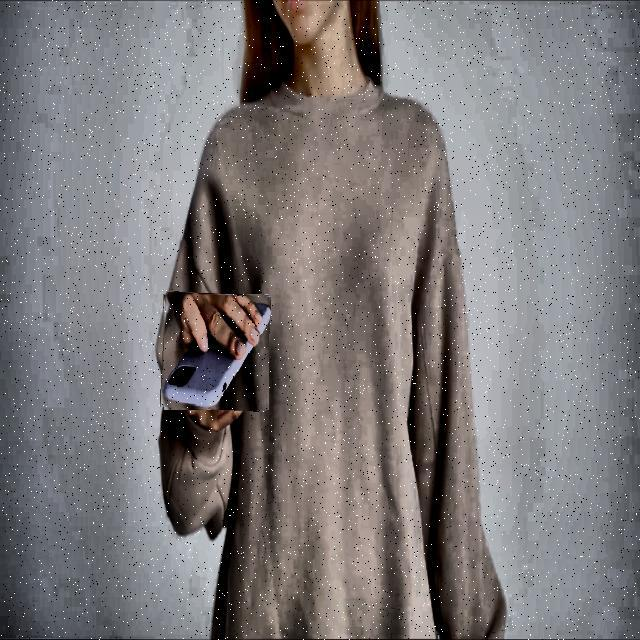Phone: (162, 293, 270, 411)
